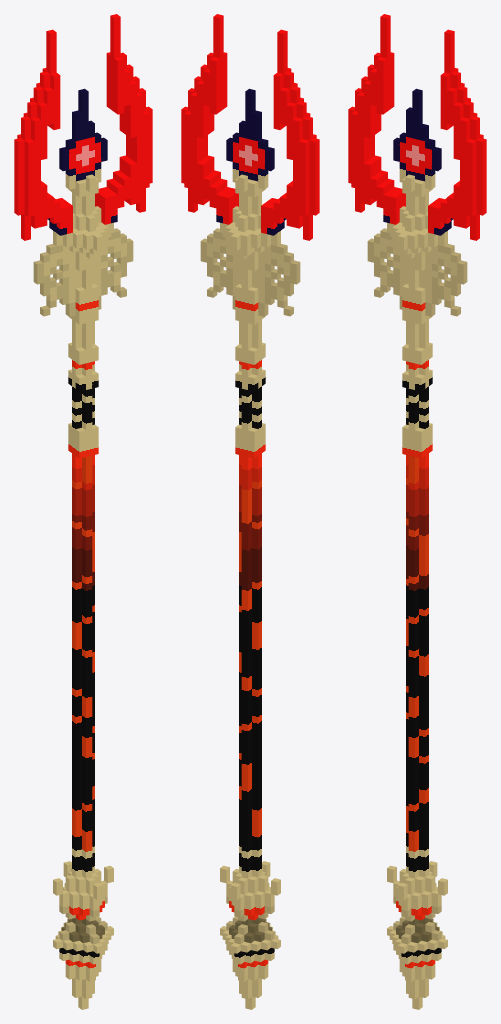
The model's file is 【原神】护摩之杖.gltf.
3 renders of one model, left to right at view 1: azimuth 30°, elevation 25°; view 2: azimuth 150°, elevation 25°; view 3: azimuth 330°, elevation 25°, orthographic.
Parts seen in each view (by area): view 1: Object; view 2: Object; view 3: Object.
Part boxes in pixels (bbox=[...]): Object: bbox=[14, 14, 152, 1009]; Object: bbox=[181, 14, 319, 1009]; Object: bbox=[348, 14, 486, 1009].
Size of the model in its own units: 21 by 147 by 9.
1 material, 1 textured.
